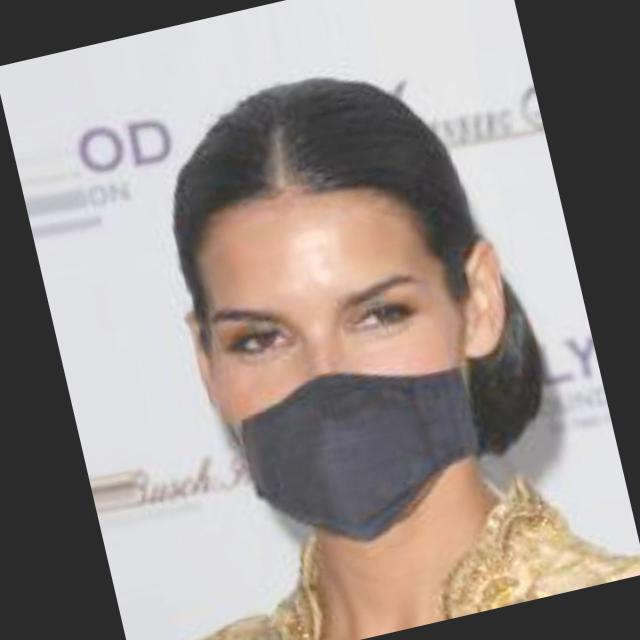suspicion: (38, 63, 538, 580)
